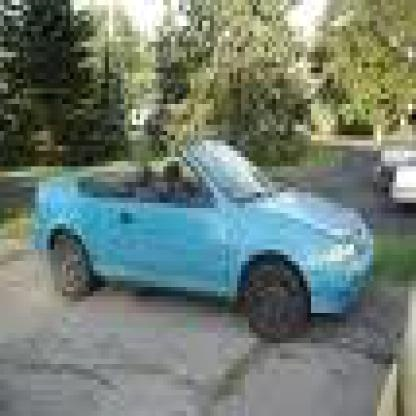Vehicle: (43, 135, 381, 354)
